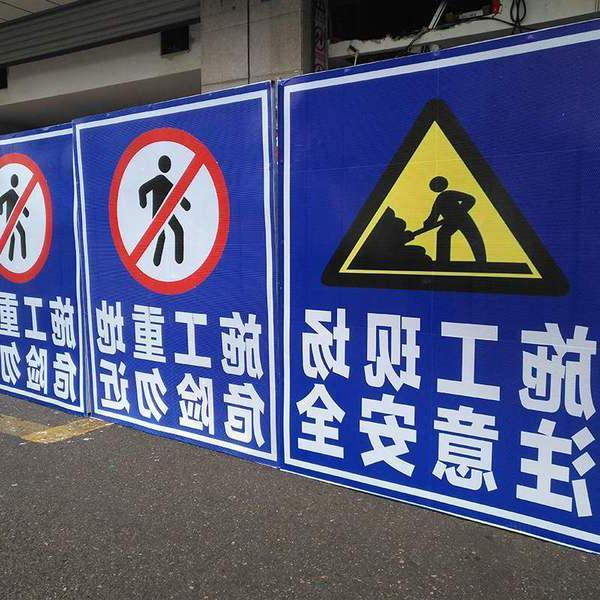sign: (1, 37, 600, 553)
